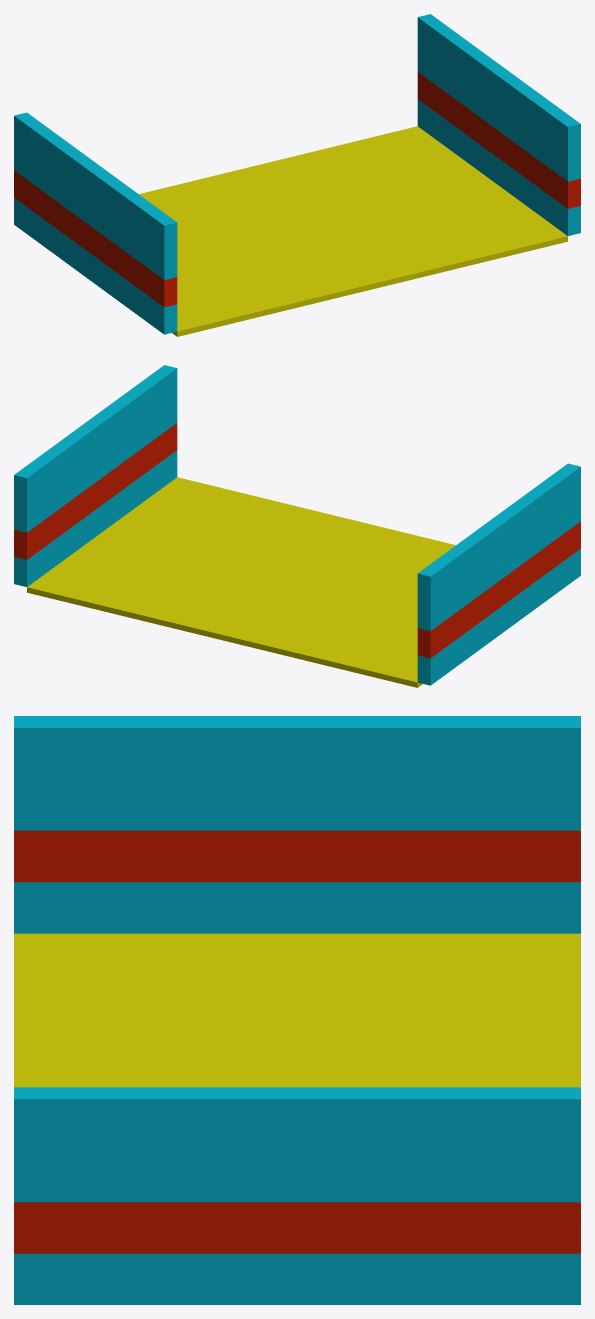
3 views of the same model, one above another, from view 1: azimuth 30°, elevation 25°; view 2: azimuth 150°, elevation 25°; view 3: azimuth 270°, elevation 25° (orthographic). The views are drawn at different scales.
Parts seen in each view (by area): view 1: Floor_B, Wall_B.004, Wall_B.003, Wall_B.000, Wall_B.001, Wall_B.007, Wall_B.009, Wall_B.005, Wall_B.008, Wall_B.002, Wall_B.006; view 2: Floor_B, Wall_B.006, Wall_B.001, Wall_B.002, Wall_B.003, Wall_B.007, Wall_B.009, Wall_B.008, Wall_B.005, Wall_B.000, Wall_B.004; view 3: Floor_B, Wall_B.009, Wall_B.007, Wall_B.008, Wall_B.006, Wall_B.005, Wall_B.004, Wall_B.003, Wall_B.002, Wall_B.001, Wall_B.000.
Part boxes in pixels (<box>): Floor_B: <box>139,126,567,336</box>; Wall_B.004: <box>134,200,177,334</box>; Wall_B.003: <box>538,102,580,235</box>; Wall_B.000: <box>447,36,490,169</box>; Wall_B.001: <box>417,14,459,147</box>; Wall_B.007: <box>477,58,520,191</box>; Wall_B.009: <box>74,156,116,290</box>; Wall_B.005: <box>104,178,146,312</box>; Wall_B.008: <box>44,134,86,268</box>; Wall_B.002: <box>508,80,550,213</box>; Wall_B.006: <box>14,112,56,246</box>; Floor_B: <box>27,477,455,687</box>; Wall_B.006: <box>417,551,460,685</box>; Wall_B.001: <box>14,453,56,586</box>; Wall_B.002: <box>104,387,147,520</box>; Wall_B.003: <box>135,365,177,498</box>; Wall_B.007: <box>74,409,117,542</box>; Wall_B.009: <box>478,507,520,641</box>; Wall_B.008: <box>448,529,490,663</box>; Wall_B.005: <box>508,485,550,619</box>; Wall_B.000: <box>44,431,86,564</box>; Wall_B.004: <box>538,463,580,597</box>; Floor_B: <box>14,933,580,1087</box>; Wall_B.009: <box>240,716,354,933</box>; Wall_B.007: <box>240,1087,354,1304</box>; Wall_B.008: <box>354,716,467,933</box>; Wall_B.006: <box>467,716,580,933</box>; Wall_B.005: <box>127,716,240,933</box>; Wall_B.004: <box>14,716,127,933</box>; Wall_B.003: <box>14,1087,127,1304</box>; Wall_B.002: <box>127,1087,240,1304</box>; Wall_B.001: <box>467,1087,580,1304</box>; Wall_B.000: <box>354,1087,467,1304</box>.
Bounding box in the file's own units: 1600 × 420 × 1000.
